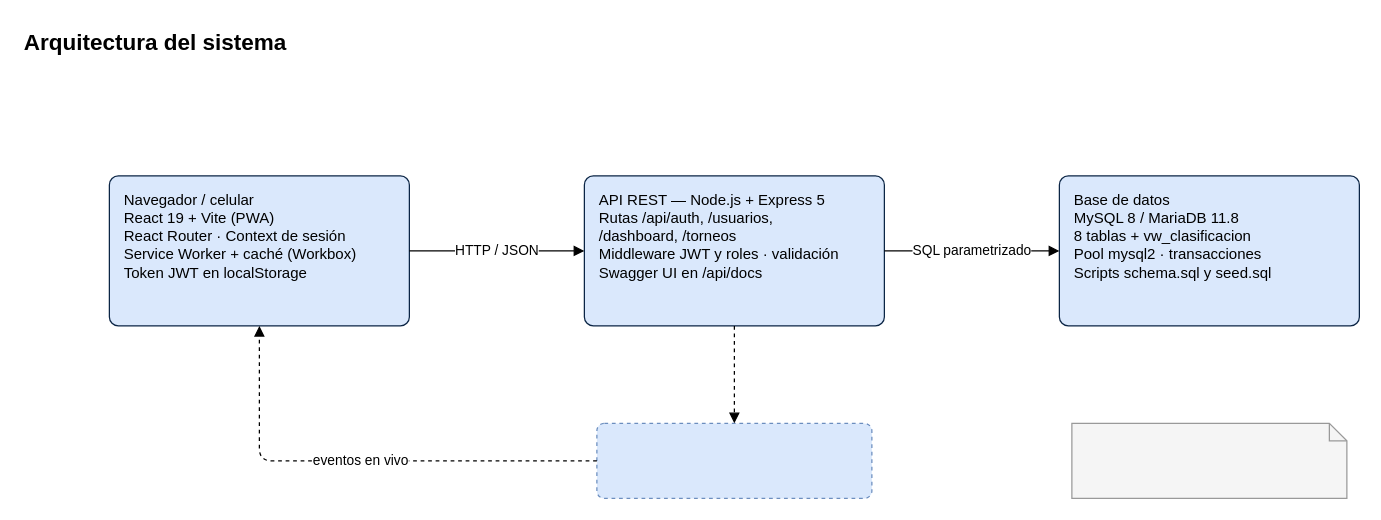
This 1381x520 diagram has some shape labels left out. Here are the shapes that lost their labels. From the top down, the centre of each, then its label:
(x=734, y=460): Socket.IO (resultados en vivo, Sprint 3)
(x=1209, y=460): Vite (puerto 5173) envía /api al servidor (puerto 3000)
